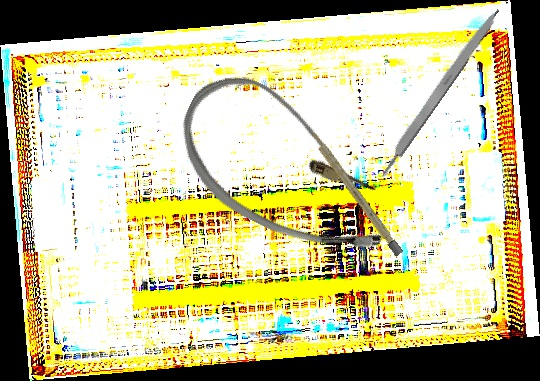Cannula: (156, 59, 420, 277)
Scalpel Handle: (373, 4, 504, 180), (306, 128, 404, 257)
